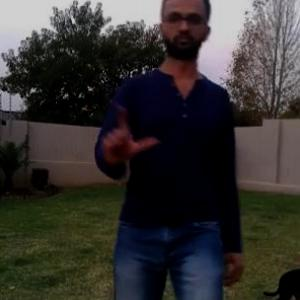land_hand: (95, 96, 160, 176)
